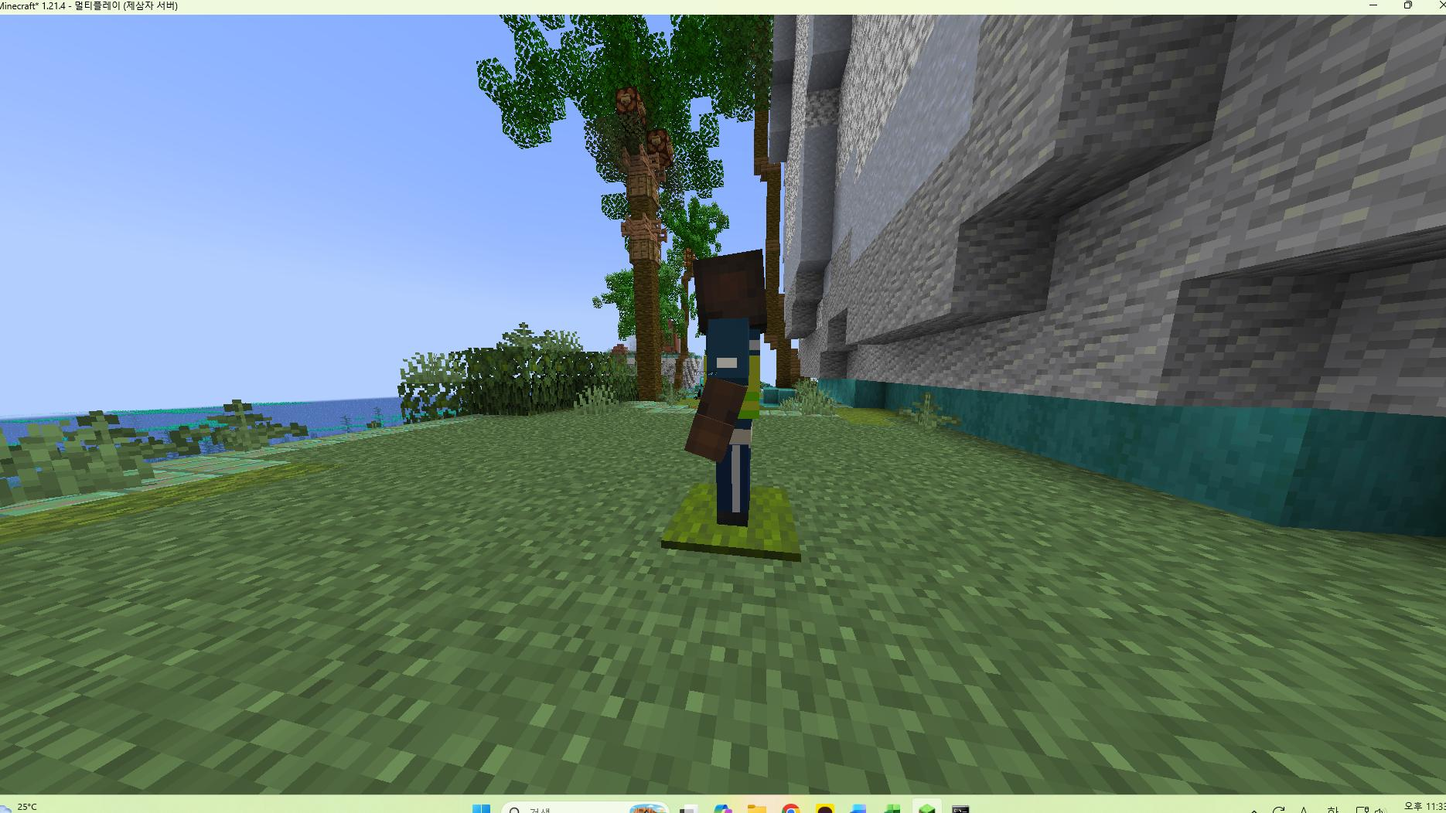Guardian: (685, 250, 771, 526)
